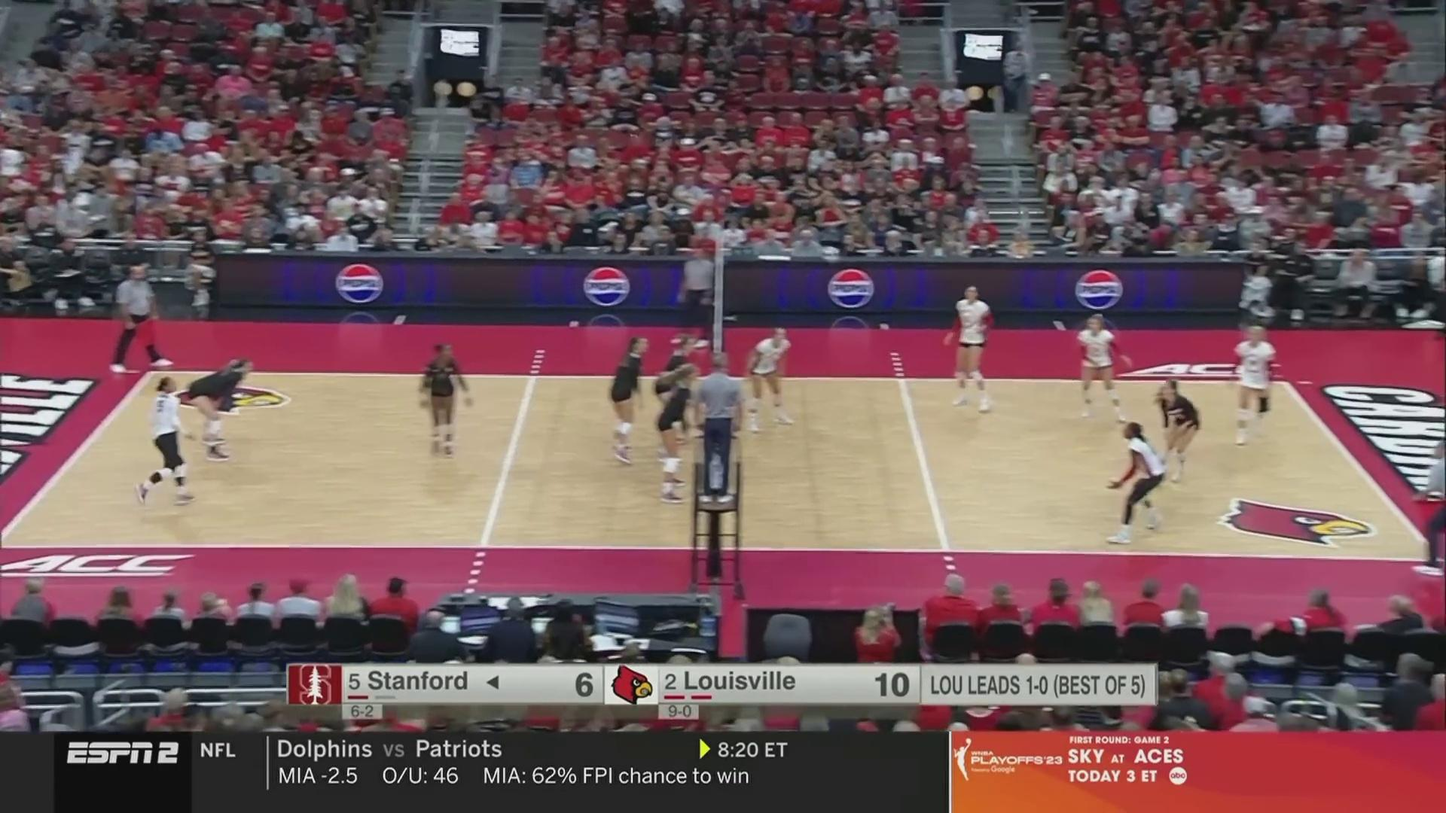player: (1106, 422, 1168, 544), (138, 379, 191, 502), (189, 358, 252, 461), (944, 287, 993, 410), (419, 346, 472, 458), (656, 334, 701, 461), (1076, 314, 1127, 421), (609, 336, 650, 466), (658, 369, 697, 503), (1151, 379, 1202, 481), (745, 329, 796, 430), (1231, 326, 1275, 442)
refree: (693, 355, 745, 503), (112, 263, 170, 373), (1413, 442, 1446, 579), (676, 249, 715, 347)
